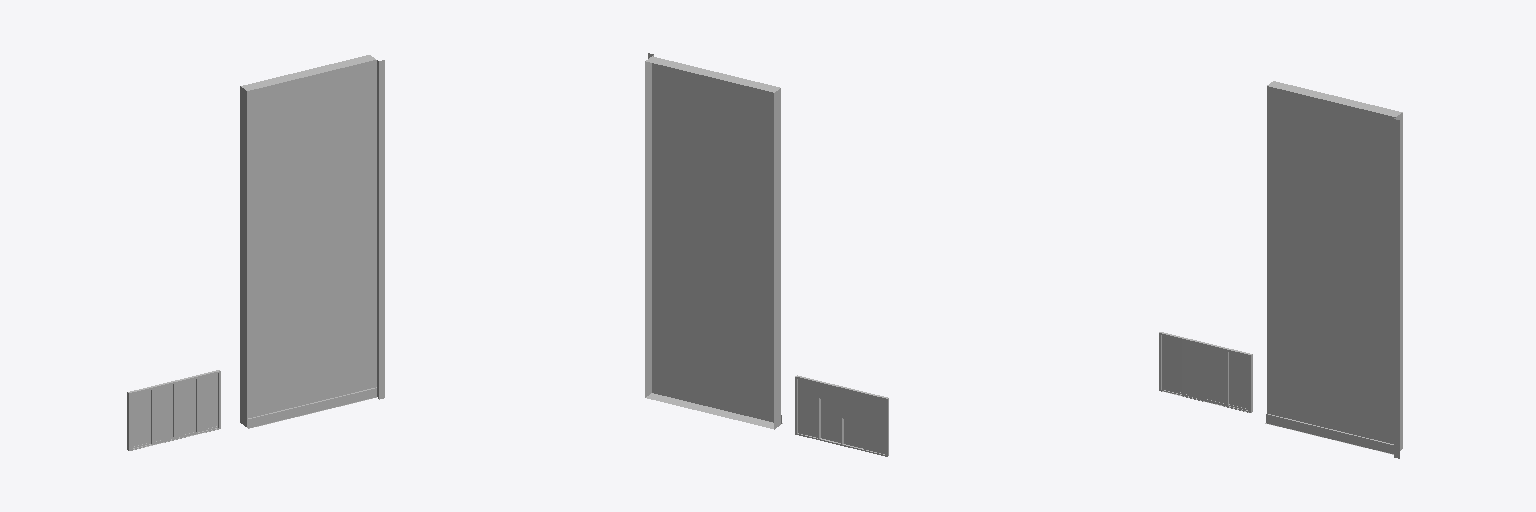
The model's file is janelaExterna2.obj.
3 renders of one model, left to right at view 1: azimuth 30°, elevation 25°; view 2: azimuth 150°, elevation 25°; view 3: azimuth 330°, elevation 25°, orthographic.
Parts seen in each view (by area): view 1: Mesh2 Model, Mesh1 F4VTX1 PF4VTX_1_1 Model; view 2: Mesh2 Model, Mesh1 F4VTX1 PF4VTX_1_1 Model; view 3: Mesh2 Model, Mesh1 F4VTX1 PF4VTX_1_1 Model.
Boxes of the visible parts, x1=… form: Mesh2 Model: x1=240, y1=55, x2=384, y2=428; Mesh1 F4VTX1 PF4VTX_1_1 Model: x1=127, y1=370, x2=220, y2=450; Mesh2 Model: x1=645, y1=53, x2=782, y2=429; Mesh1 F4VTX1 PF4VTX_1_1 Model: x1=795, y1=375, x2=888, y2=456; Mesh2 Model: x1=1265, y1=81, x2=1402, y2=458; Mesh1 F4VTX1 PF4VTX_1_1 Model: x1=1159, y1=332, x2=1252, y2=412.
Bounding box in the file's own units: 9754 × 12701 × 624.